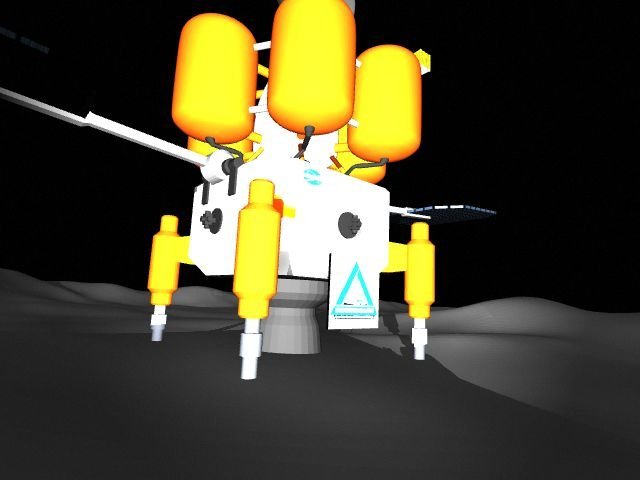basemarker: (329, 260, 377, 321)
